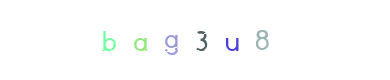3: (163, 0, 243, 80)
8: (192, 0, 272, 80)
A: (128, 0, 208, 80)
B: (83, 0, 163, 80)
G: (155, 0, 235, 80)
U: (178, 0, 258, 80)
